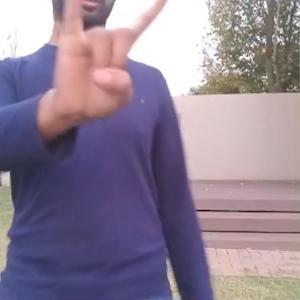takeoff-hand: (47, 0, 184, 125)
